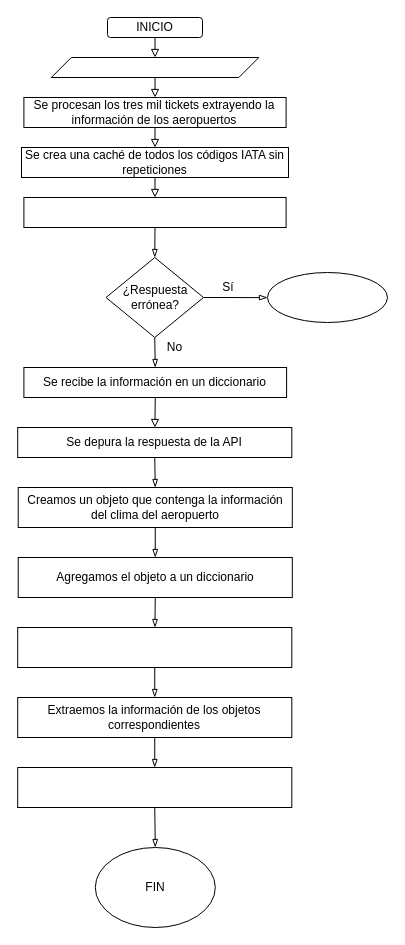
Some shapes in this 405 by 945 pixel diagram are drawn without their labels. The shapes that lost their labels are listed below. From the top down, each one's centre as x and y in pixels, then its label:
At (154,67): "Recibimos un archivo dataset.csv".
At (154,212): "Se solicita una petición a API de OpenWeatherMap".
At (327,297): "Lanzar excepción".
At (154,647): "Procesamos pares origen-destino".
At (154,787): "Damos formato de salida e imprimimos en temrinal".
